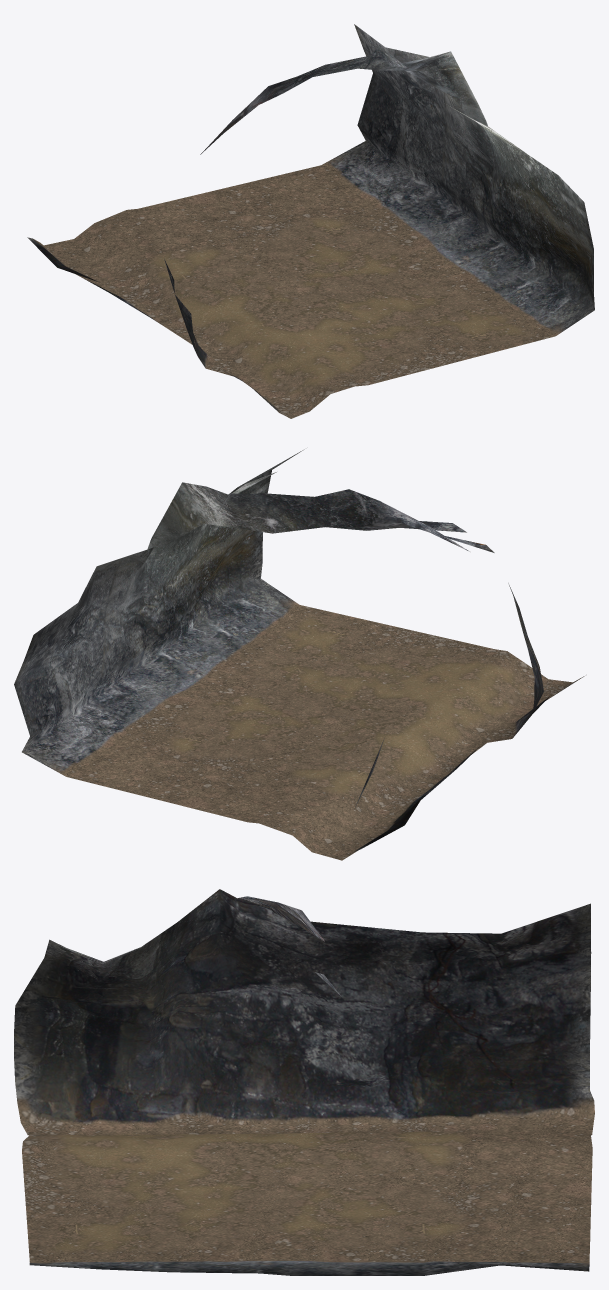
File: TunnelA4.glb
3 renders of one model, top to bottom at view 1: azimuth 30°, elevation 25°; view 2: azimuth 150°, elevation 25°; view 3: azimuth 270°, elevation 25°, orthographic. The views are drawn at different scales.
Parts seen in each view (by area): view 1: TunnelA4; view 2: TunnelA4; view 3: TunnelA4.
Part boxes in pixels (x1,y1,x2,y2): TunnelA4: (27,24,594,418); TunnelA4: (14,449,584,860); TunnelA4: (14,889,594,1275).
Bounding box in the file's own units: 4.38 × 2.74 × 5.08.
Materials: 1 (1 with a texture image).
